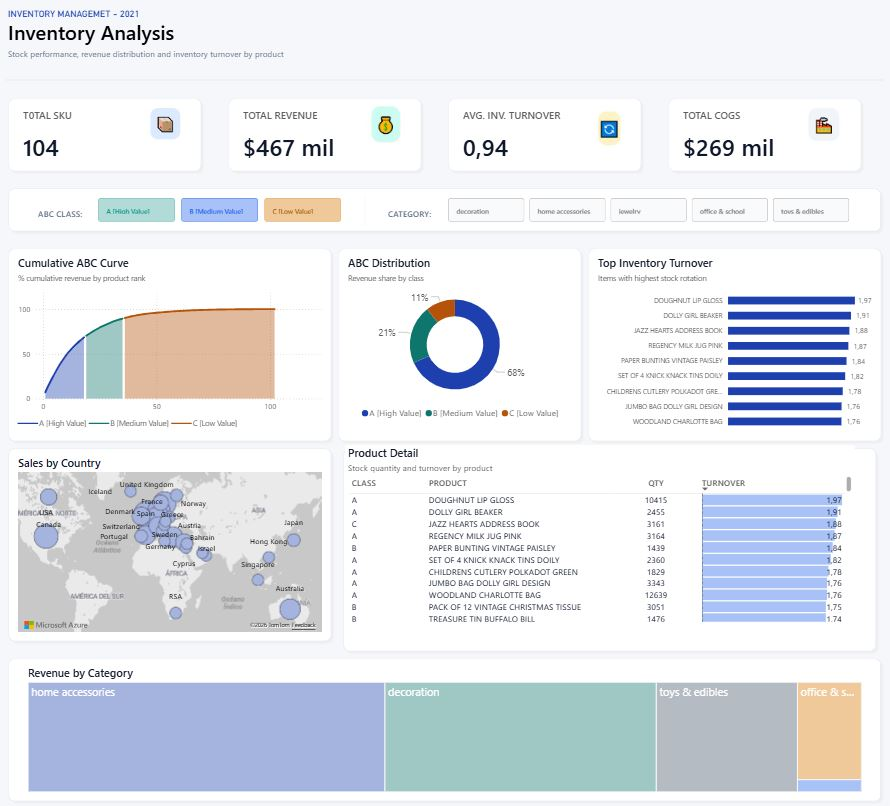

This screenshot's page, from the dashboard's own definition file:
{"tool":"powerbi","page":{"name":"Inventory Management","canvas":[1444,1300],"ordinal":0},"visuals":[{"type":"shape","box":[16,1056,1408,240],"z":0},{"type":"textbox","box":[16,16,368,32],"z":1000},{"type":"textbox","box":[16,32,464,144],"z":2000},{"type":"textbox","box":[16,80,464,32],"z":3000},{"type":"shape","box":[16,96,1408,80],"z":4000},{"type":"shape","box":[16,160,320,128],"z":5000},{"type":"shape","box":[368,160,320,128],"z":6000},{"type":"shape","box":[720,160,320,128],"z":7000},{"type":"shape","box":[1072,160,320,128],"z":8000},{"type":"shape","box":[16,304,1408,80],"z":9000},{"type":"cardVisual","fields":{"Data":["Count(Stock.SKU-ID)"]},"box":[16,160,160,128],"z":10000},{"type":"cardVisual","fields":{"Data":["Sum(Stock.Revenue_2021)"]},"box":[368,160,240,128],"z":11000},{"type":"cardVisual","fields":{"Data":["Avg(Turnover.Inventory turnover)"]},"box":[720,160,224,128],"z":12000},{"type":"cardVisual","fields":{"Data":["Sum(Stock.TotalCOGS2021)"]},"box":[1072,160,256,128],"z":13000},{"type":"image","box":[240,176,64,64],"z":14000},{"type":"image","box":[592,176,64,64],"z":15000},{"type":"image","box":[960,176,48,80],"z":16000},{"type":"image","box":[1296,176,64,64],"z":17000},{"type":"advancedSlicerVisual","fields":{"Values":["ABC.ABC_class"]},"box":[160,320,400,48],"z":18000},{"type":"textbox","box":[64,336,96,32],"z":19000},{"type":"shape","box":[560,320,64,48],"z":20000},{"type":"textbox","box":[624,336,96,32],"z":21000},{"type":"advancedSlicerVisual","fields":{"Values":["categories.category"]},"box":[720,320,656,48],"z":22000},{"type":"shape","box":[16,400,528,320],"z":23000},{"type":"shape","box":[544,400,400,320],"z":24000},{"type":"shape","box":[944,400,480,320],"z":25000},{"type":"stackedAreaChart","title":"Cumulative ABC Curve","fields":{"Category":["ABC.Rank"],"Y":["Avg(ABC.CP_revenue)"],"Series":["ABC.ABC_class"]},"box":[32,416,496,288],"z":26000},{"type":"donutChart","title":"ABC Distribution","fields":{"Y":["Sum(ABC.Stock_Revenue_2021)"],"Category":["ABC.ABC_class"]},"box":[560,416,352,272],"z":27000},{"type":"barChart","title":"Top Inventory Turnover","fields":{"Category":["Turnover.Stock_Description"],"Y":["Sum(Turnover.Inventory turnover)"]},"box":[960,416,448,288],"z":28000},{"type":"shape","box":[16,720,528,320],"z":29000},{"type":"treemap","title":"Revenue by Category","fields":{"Group":["categories.category"],"Values":["Sum(Stock.Revenue_2021)"]},"box":[48,1072,1344,208],"z":30000},{"type":"shape","box":[552,720,864,336],"z":31000},{"type":"tableEx","title":"Product Detail ","fields":{"Values":["ABC.ABC_class (grupos)","Stock.Description","Sum(Stock.Quantity_2021)","Sum(Turnover.Inventory turnover)"]},"box":[560,720,816,288],"z":32000},{"type":"azureMap","title":"Sales by Country","fields":{"Category":["Orders.Country"],"Size":["Sum(Orders.Quantity)"]},"box":[32,736,496,288],"z":33000}]}

Visuals, with their boxes in screenshot pixels (x1, y1, x2, y2), scaled from the page's 1444x1300 canvas onto the 890x806 screenshot:
shape: <bbox>10, 655, 878, 804</bbox>
textbox: <bbox>10, 10, 237, 30</bbox>
textbox: <bbox>10, 20, 296, 109</bbox>
textbox: <bbox>10, 50, 296, 69</bbox>
shape: <bbox>10, 60, 878, 109</bbox>
shape: <bbox>10, 99, 207, 179</bbox>
shape: <bbox>227, 99, 424, 179</bbox>
shape: <bbox>444, 99, 641, 179</bbox>
shape: <bbox>661, 99, 858, 179</bbox>
shape: <bbox>10, 188, 878, 238</bbox>
cardVisual - Count(Stock.SKU-ID): <bbox>10, 99, 108, 179</bbox>
cardVisual - Sum(Stock.Revenue_2021): <bbox>227, 99, 375, 179</bbox>
cardVisual - Avg(Turnover.Inventory turnover): <bbox>444, 99, 582, 179</bbox>
cardVisual - Sum(Stock.TotalCOGS2021): <bbox>661, 99, 819, 179</bbox>
image: <bbox>148, 109, 187, 149</bbox>
image: <bbox>365, 109, 404, 149</bbox>
image: <bbox>592, 109, 621, 159</bbox>
image: <bbox>799, 109, 838, 149</bbox>
advancedSlicerVisual - ABC.ABC_class: <bbox>99, 198, 345, 228</bbox>
textbox: <bbox>39, 208, 99, 228</bbox>
shape: <bbox>345, 198, 385, 228</bbox>
textbox: <bbox>385, 208, 444, 228</bbox>
advancedSlicerVisual - categories.category: <bbox>444, 198, 848, 228</bbox>
shape: <bbox>10, 248, 335, 446</bbox>
shape: <bbox>335, 248, 582, 446</bbox>
shape: <bbox>582, 248, 878, 446</bbox>
"Cumulative ABC Curve" stackedAreaChart: <bbox>20, 258, 325, 436</bbox>
"ABC Distribution" donutChart: <bbox>345, 258, 562, 427</bbox>
"Top Inventory Turnover" barChart: <bbox>592, 258, 868, 436</bbox>
shape: <bbox>10, 446, 335, 645</bbox>
"Revenue by Category" treemap: <bbox>30, 665, 858, 794</bbox>
shape: <bbox>340, 446, 873, 655</bbox>
"Product Detail " tableEx: <bbox>345, 446, 848, 625</bbox>
"Sales by Country" azureMap: <bbox>20, 456, 325, 635</bbox>
